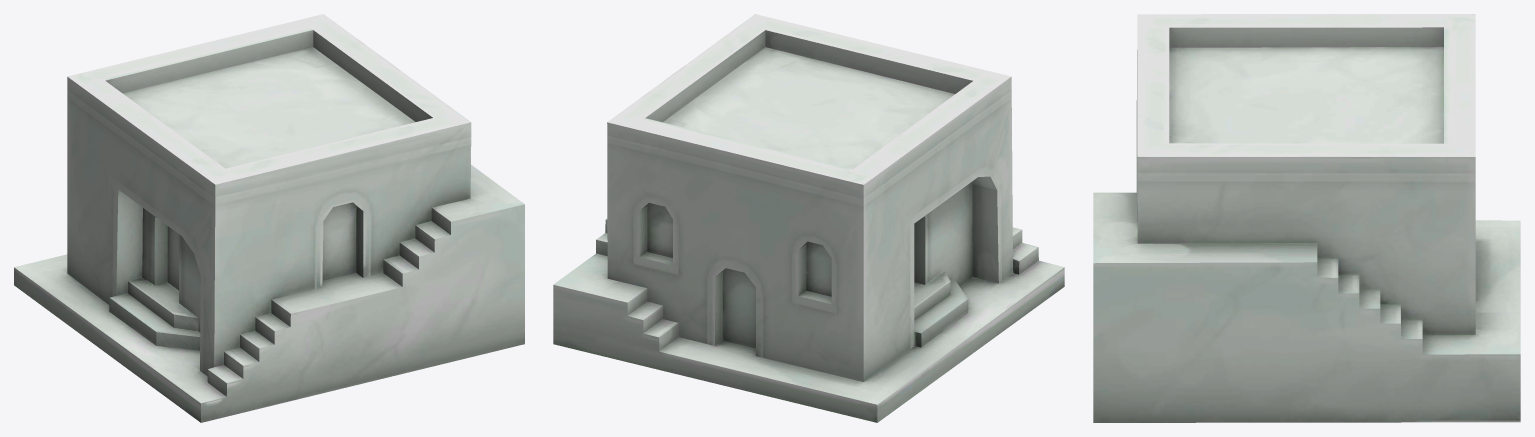
The model's file is BuildingBlock01.obj.
3 renders of one model, left to right at view 1: azimuth 30°, elevation 25°; view 2: azimuth 150°, elevation 25°; view 3: azimuth 270°, elevation 25°, orthographic. The views are drawn at different scales.
Parts seen in each view (by area): view 1: BuildingBlock01.001; view 2: BuildingBlock01.001; view 3: BuildingBlock01.001.
Boxes of the visible parts, x1,y1,x2,y2 form: BuildingBlock01.001: (14,14,524,422); BuildingBlock01.001: (553,14,1064,422); BuildingBlock01.001: (1093,14,1520,422).
Bounding box in the file's own units: 2.18 × 1.39 × 2.18.
1 material, 1 textured.
